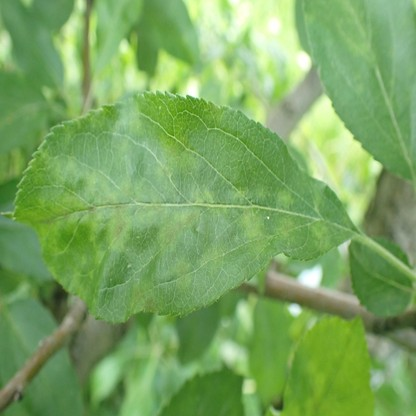scab: (23, 150, 112, 245), (159, 184, 213, 252), (87, 171, 116, 239), (157, 148, 197, 178), (108, 206, 130, 251), (130, 282, 160, 315), (130, 183, 157, 218), (239, 208, 266, 239), (309, 218, 332, 252), (174, 260, 194, 295), (201, 247, 224, 272), (68, 274, 90, 300), (275, 217, 295, 241), (251, 239, 270, 260), (118, 182, 129, 204), (277, 191, 292, 207), (234, 186, 247, 203), (95, 248, 106, 267), (213, 203, 227, 216), (258, 186, 266, 199)
